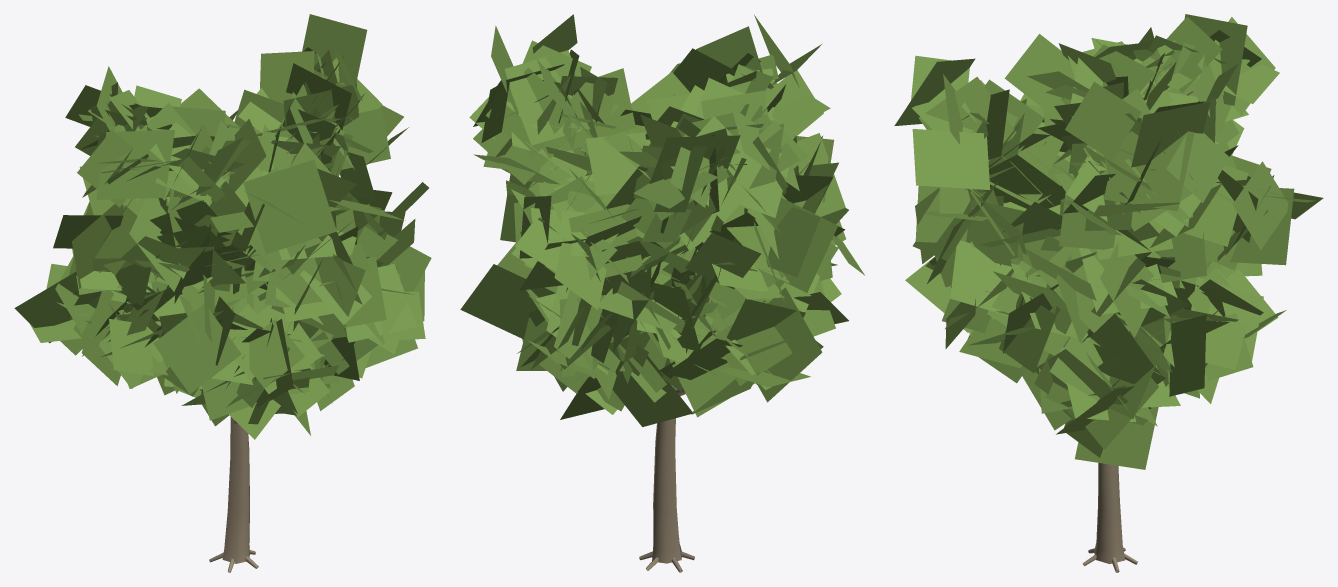
File: oak-5-lod1.glb
3 views of the same model, side by side, from view 1: azimuth 30°, elevation 25°; view 2: azimuth 150°, elevation 25°; view 3: azimuth 270°, elevation 25° (orthographic). The views are drawn at different scales.
Parts seen in each view (by area): view 1: oak-5-lod1-foliage, oak-5-lod1-bark; view 2: oak-5-lod1-foliage, oak-5-lod1-bark; view 3: oak-5-lod1-foliage, oak-5-lod1-bark.
Part boxes in pixels (x1,y1,x2,y2): oak-5-lod1-foliage: (14, 14, 431, 439); oak-5-lod1-bark: (95, 149, 292, 572); oak-5-lod1-foliage: (460, 14, 864, 426); oak-5-lod1-bark: (639, 387, 694, 572); oak-5-lod1-foliage: (894, 14, 1323, 469); oak-5-lod1-bark: (961, 91, 1193, 572).
Bounding box in the file's own units: 10.25 × 13.31 × 9.77.
